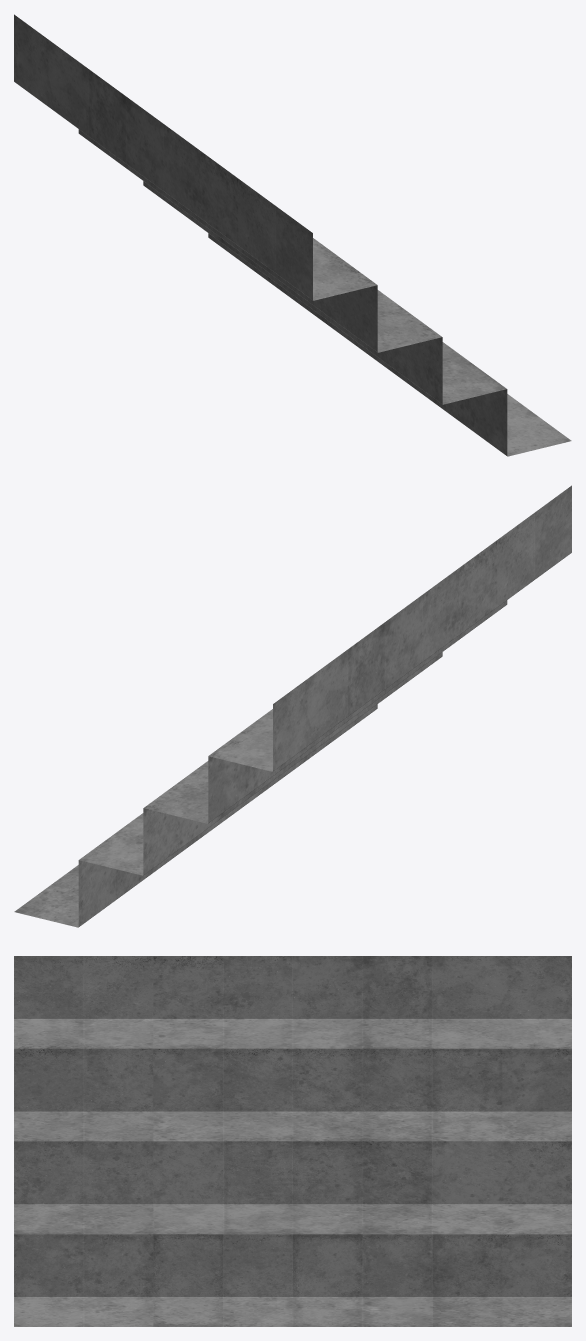
The model's file is SM_Ceiling_14.fbx.
The picture shows the model from 3 angles, top to bottom: view 1: azimuth 30°, elevation 25°; view 2: azimuth 150°, elevation 25°; view 3: azimuth 270°, elevation 25°; orthographic projection. The views are drawn at different scales.
Parts seen in each view (by area): view 1: SM_Ceiling_14; view 2: SM_Ceiling_14; view 3: SM_Ceiling_14.
Boxes of the visible parts, x1,y1,x2,y2 form: SM_Ceiling_14: (14, 14, 571, 456); SM_Ceiling_14: (14, 485, 571, 927); SM_Ceiling_14: (14, 956, 571, 1326).
Size of the model in its own units: 400 by 400 by 800.
